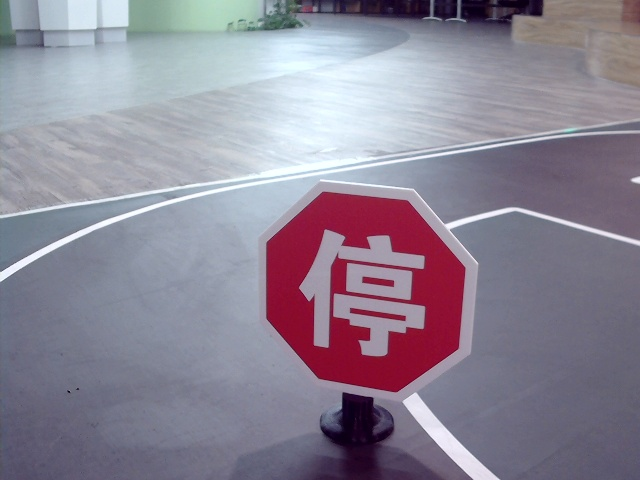stop: (298, 225, 422, 361)
